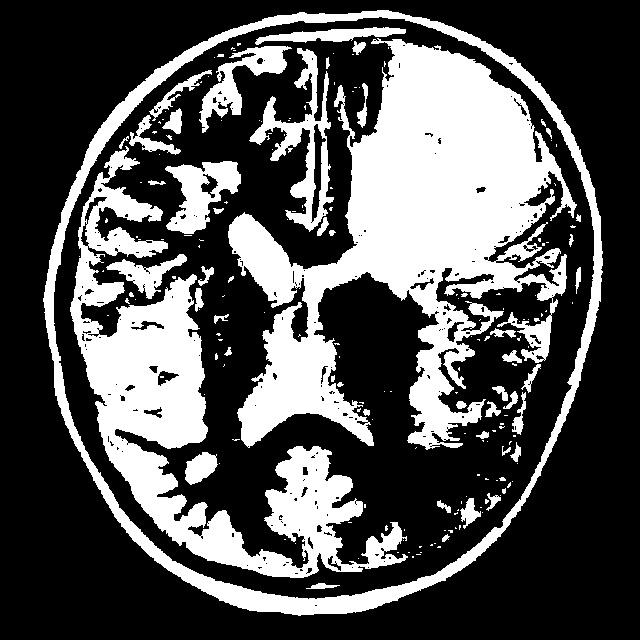Brain-Tumor: (337, 26, 567, 315)
